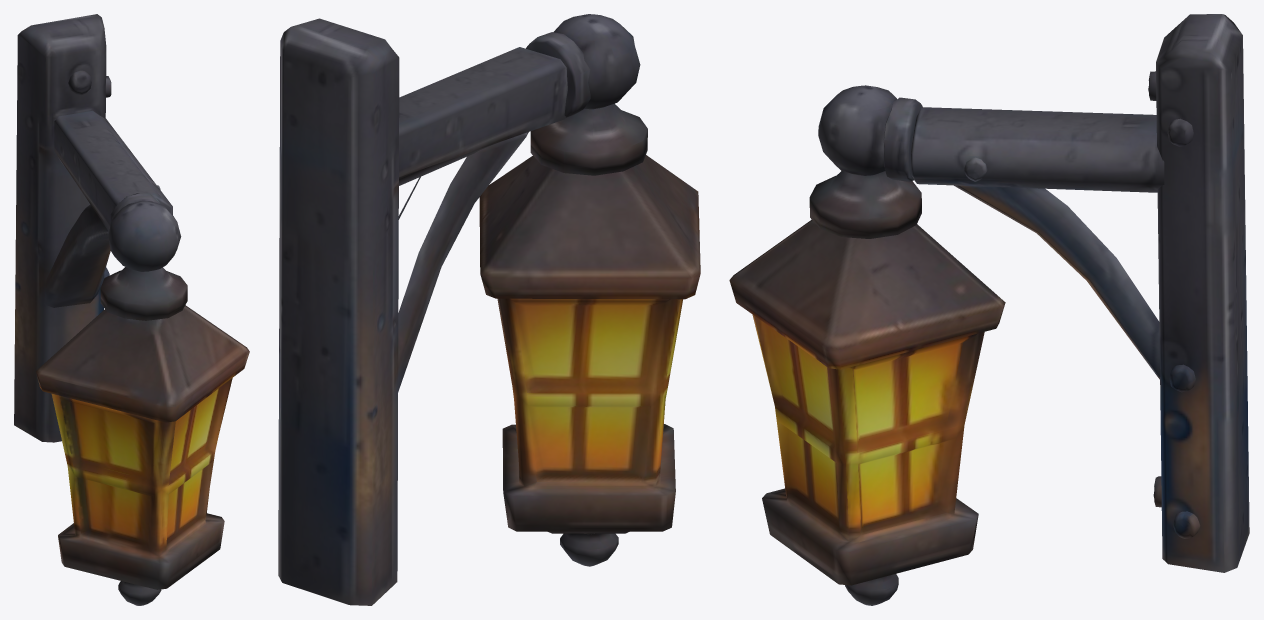
File: stern_lantern.glb
3 views of the same model, side by side, from view 1: azimuth 30°, elevation 25°; view 2: azimuth 150°, elevation 25°; view 3: azimuth 270°, elevation 25° (orthographic). The views are drawn at different scales.
Parts seen in each view (by area): view 1: lantern; view 2: lantern; view 3: lantern.
Boxes of the visible parts, x1,y1,x2,y2 form: lantern: [14, 14, 249, 605]; lantern: [278, 14, 700, 605]; lantern: [729, 14, 1249, 605].
Bounding box in the file's own units: 0.3715 × 0.9 × 0.7006.
Materials: 1 (1 with a texture image).
